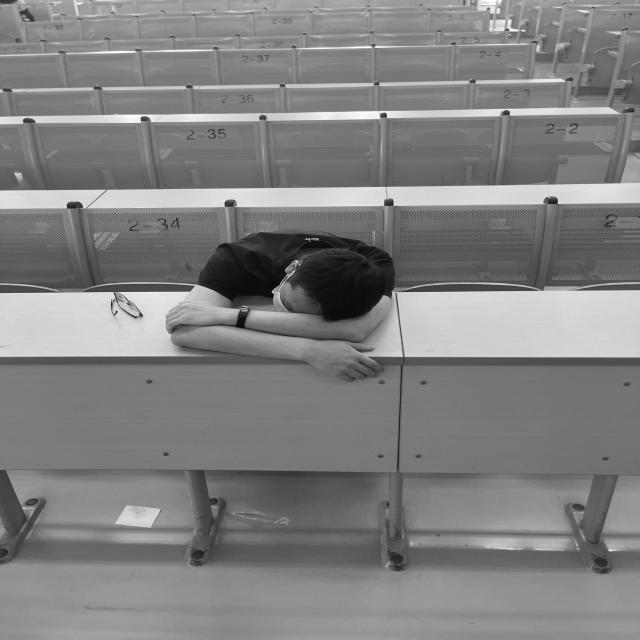sleep: (168, 229, 393, 366)
